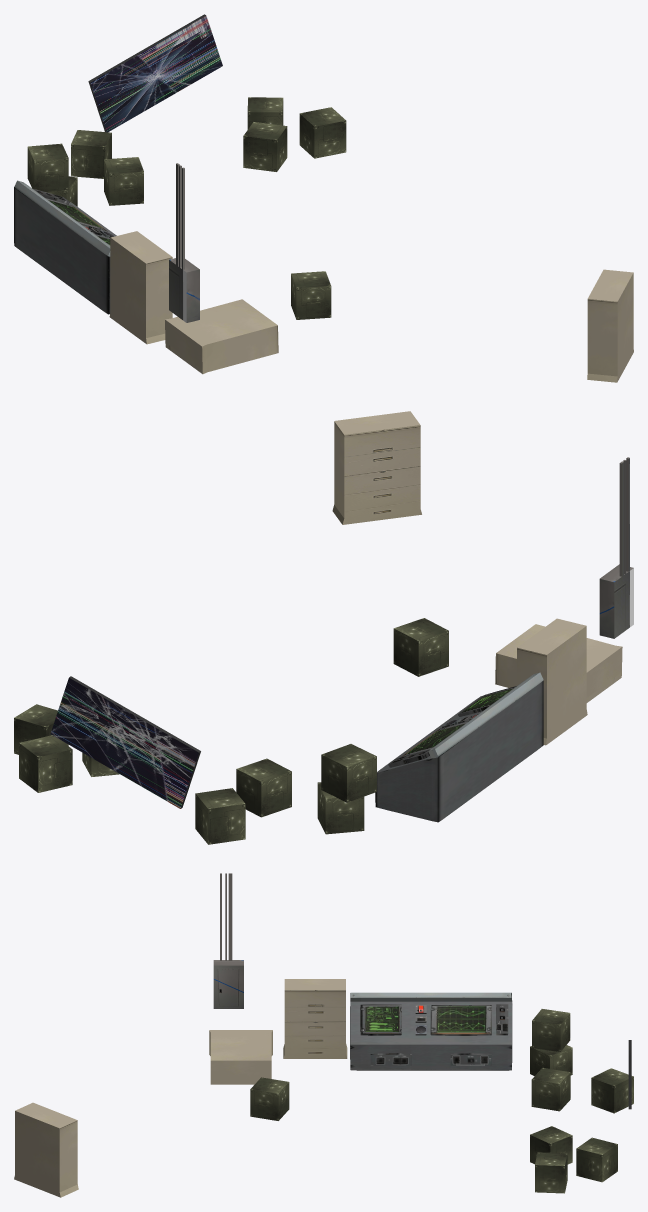
File: RoomA_Decor.fbx
The picture shows the model from 3 angles, top to bottom: view 1: azimuth 30°, elevation 25°; view 2: azimuth 150°, elevation 25°; view 3: azimuth 270°, elevation 25°; orthographic projection. The views are drawn at different scales.
Visible parts, largest first — view 1: Cube.070, Cube.054, Cube.050, Cube.051, Cube.037, Cube.055, Cube.159, Cube.069, Cube.063, Cube.066, Cube.065, Cube.064 (+1 smaller); view 2: Cube.070, Cube.054, Cube.037, Cube.051, Cube.055, Cube.050, Cube.066, Cube.063, Cube.067, Cube.065, Cube.064, Cube.062 (+1 smaller); view 3: Cube.070, Cube.037, Cube.051, Cube.050, Cube.055, Cube.067, Cube.064, Cube.065, Cube.066, Cube.063, Cube.159, Cube.069 (+1 smaller).
Boxes of the visible parts, box(x1,y1,x2,y2) form: Cube.070: box(14, 180, 116, 314); Cube.054: box(88, 14, 222, 132); Cube.050: box(165, 299, 278, 374); Cube.051: box(109, 231, 172, 344); Cube.037: box(587, 269, 633, 382); Cube.055: box(169, 163, 199, 322); Cube.159: box(299, 107, 346, 158); Cube.069: box(243, 122, 287, 171); Cube.063: box(27, 143, 68, 191); Cube.066: box(291, 271, 331, 319); Cube.065: box(104, 157, 143, 205); Cube.064: box(71, 130, 111, 178); Cube.070: box(375, 672, 543, 822); Cube.054: box(50, 676, 200, 808); Cube.037: box(332, 411, 421, 524); Cube.051: box(517, 618, 587, 745); Cube.055: box(599, 457, 633, 638); Cube.050: box(495, 624, 622, 702); Cube.066: box(393, 618, 448, 676); Cube.063: box(321, 744, 376, 802); Cube.067: box(19, 735, 72, 792); Cube.065: box(236, 758, 291, 817); Cube.064: box(195, 788, 245, 844); Cube.062: box(317, 782, 364, 834); Cube.070: box(350, 992, 512, 1070); Cube.037: box(14, 1102, 78, 1197); Cube.051: box(283, 979, 347, 1058); Cube.050: box(209, 1030, 272, 1084); Cube.055: box(213, 873, 243, 1008); Cube.067: box(576, 1137, 617, 1182); Cube.064: box(591, 1068, 633, 1113); Cube.065: box(531, 1067, 570, 1111); Cube.066: box(250, 1077, 289, 1120); Cube.063: box(532, 1009, 570, 1051); Cube.159: box(535, 1152, 567, 1193); Cube.069: box(530, 1126, 572, 1164).
Bounding box in the file's own units: 54.58 × 29.74 × 95.21.
